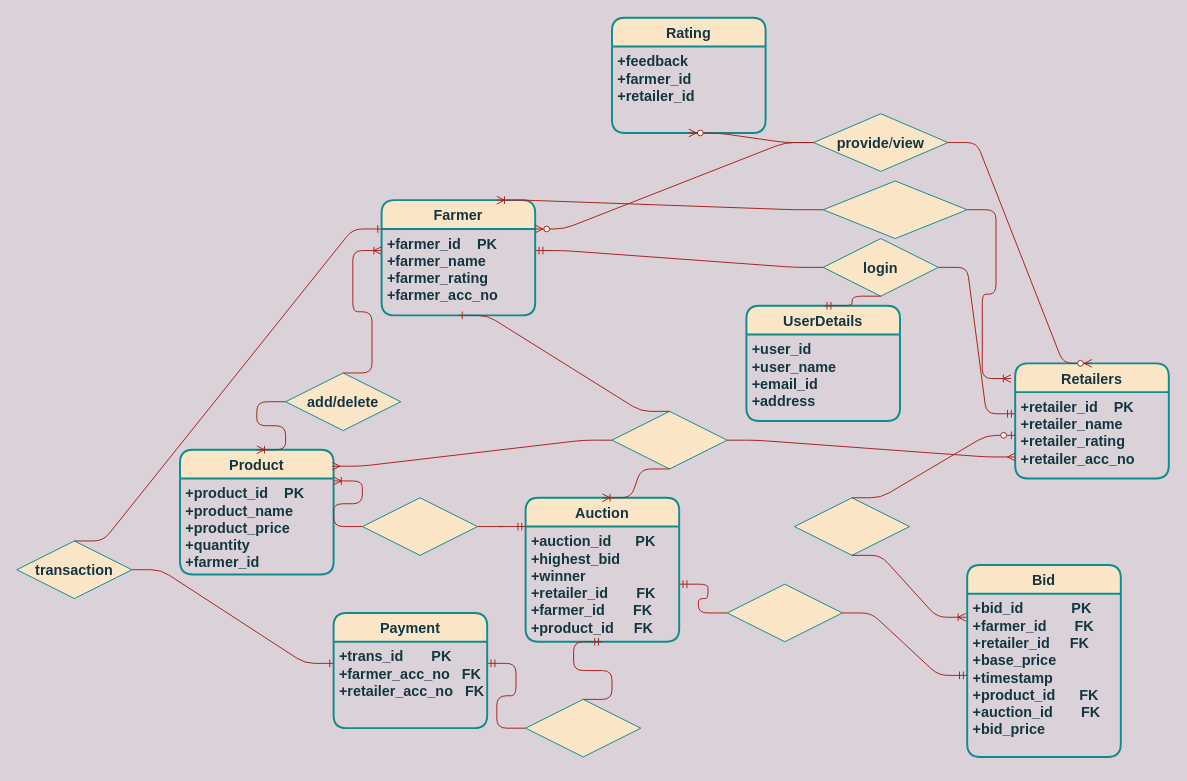
Image size: 1187x781. Some labels were removed from this diagram. The centre of each missing label's shape, as x and y in pixels:
"bids" belongs at point 851,526.
"can view" belongs at point 669,439.
"have" belongs at point 419,526.
"on approval" belongs at point 583,727.
"send products" belongs at point 894,209.
"submits" belongs at point 784,612.
